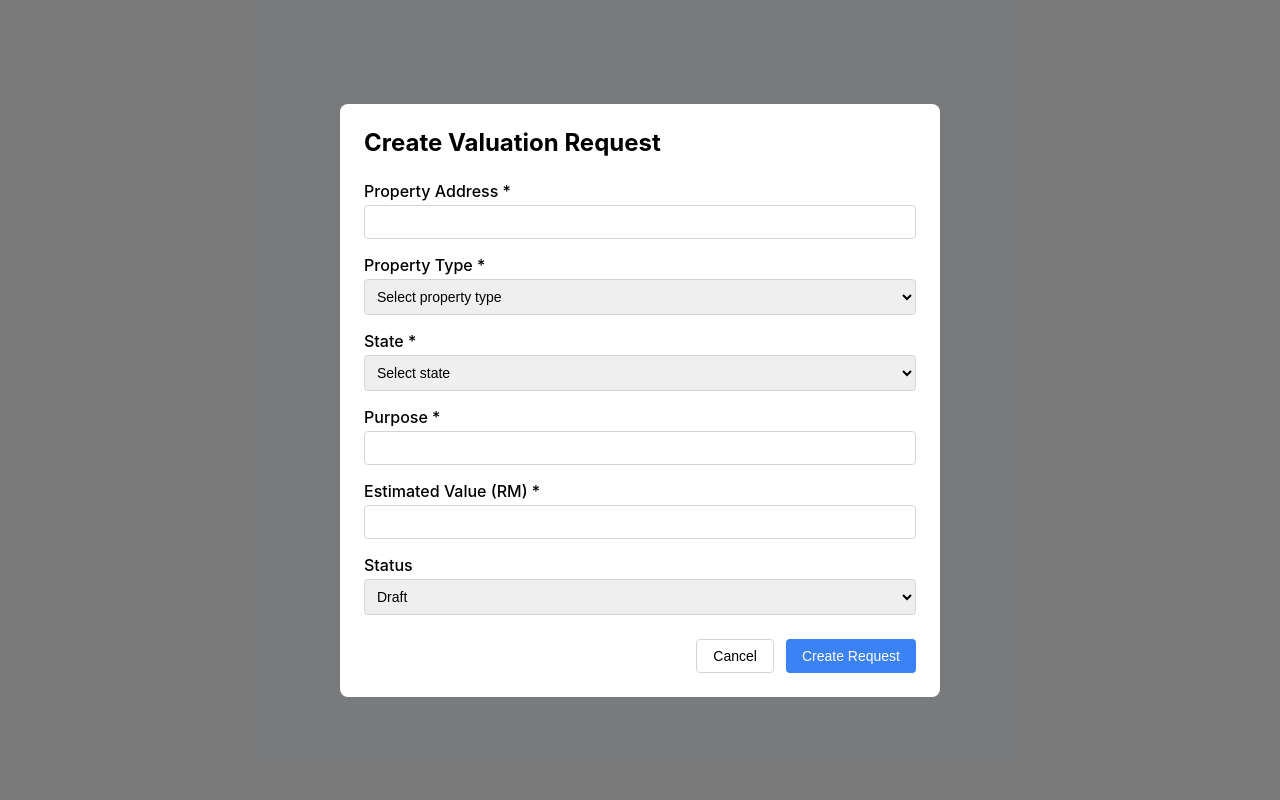
Test case: RequestForm › validates estimated value is greater than zero
Type "0" into the number field labelled "Estimated Value (RM) *". click: (640, 522)
box: [364,504,916,538]
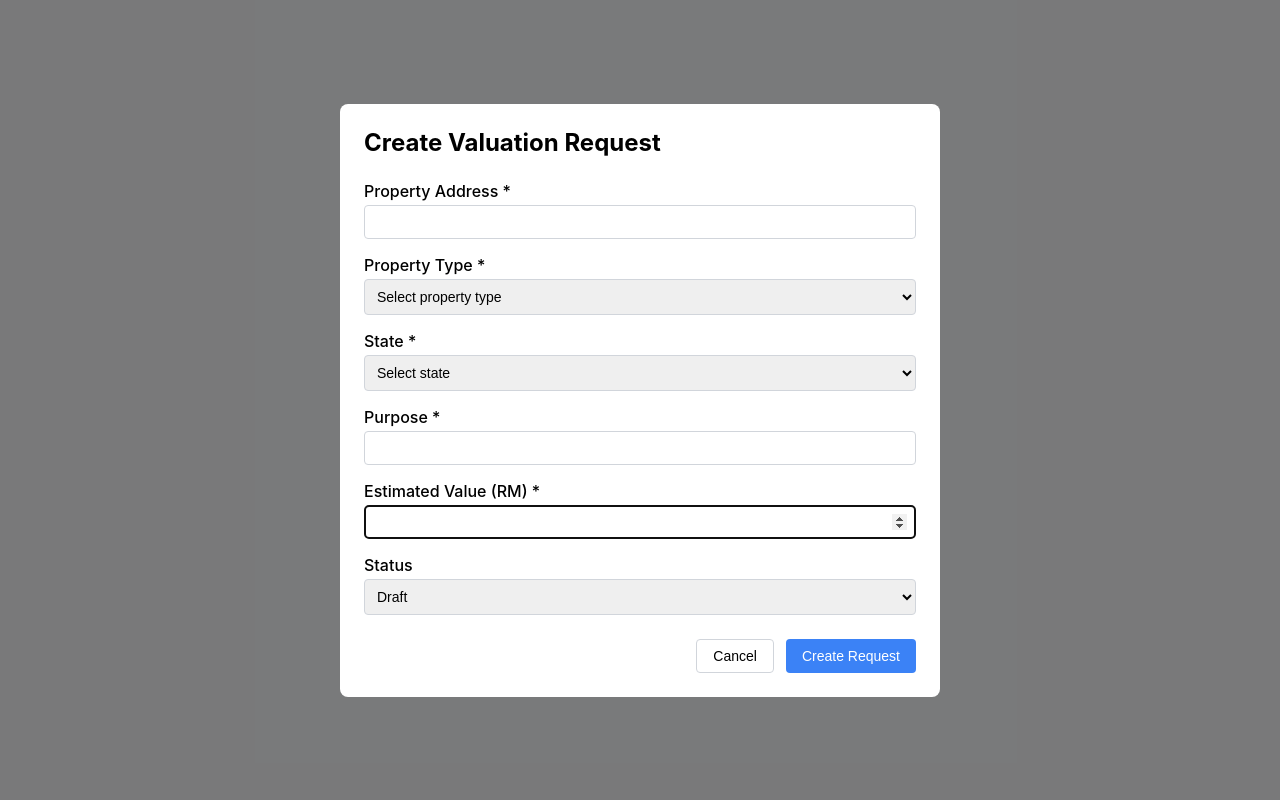
Click the button "Create Request". click: (851, 656)
box: [786,638,916,672]
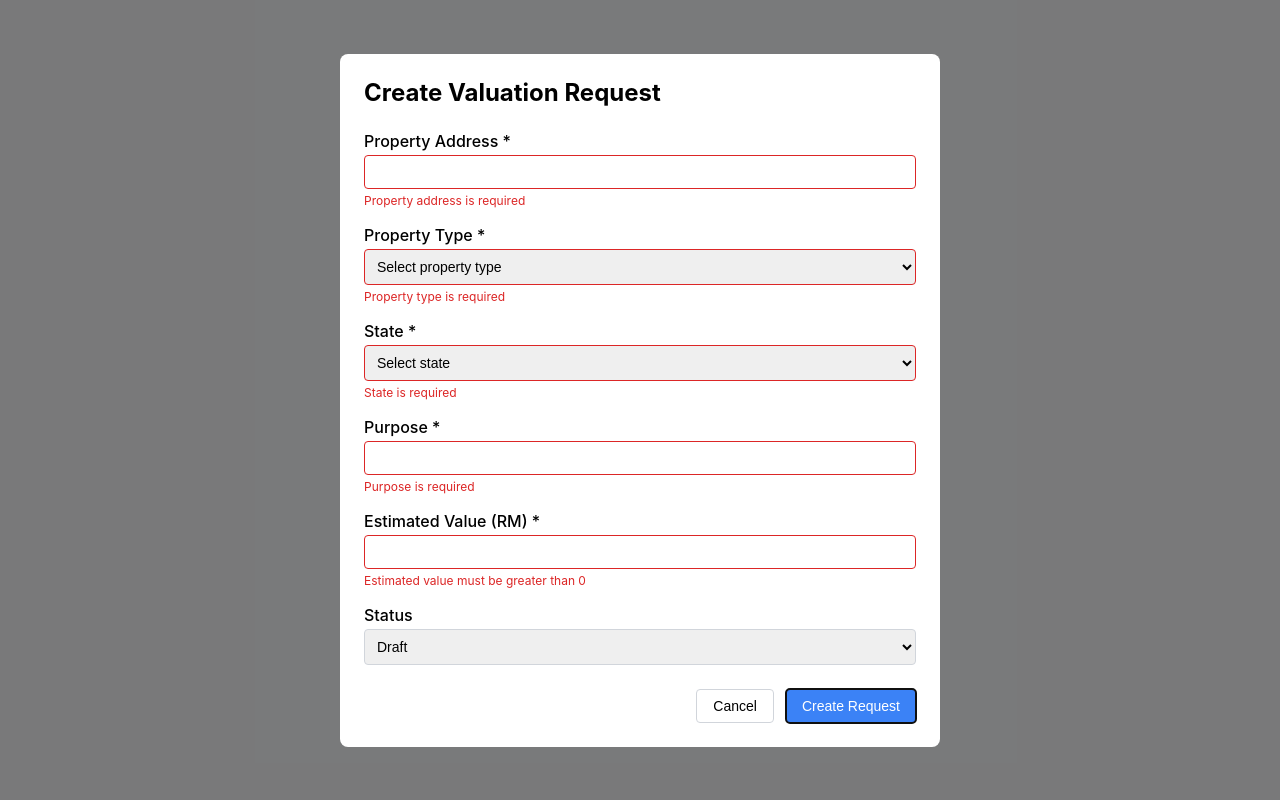
Check: the text "Estimated value must be greater than 0" is shown, box [364,572,586,588]
